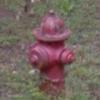a fire hydrant: (28, 10, 77, 98)
